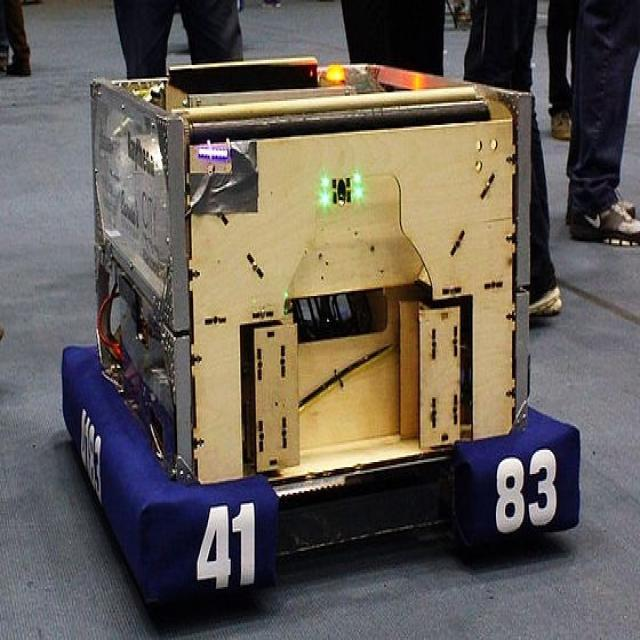robot: (58, 72, 582, 612)
